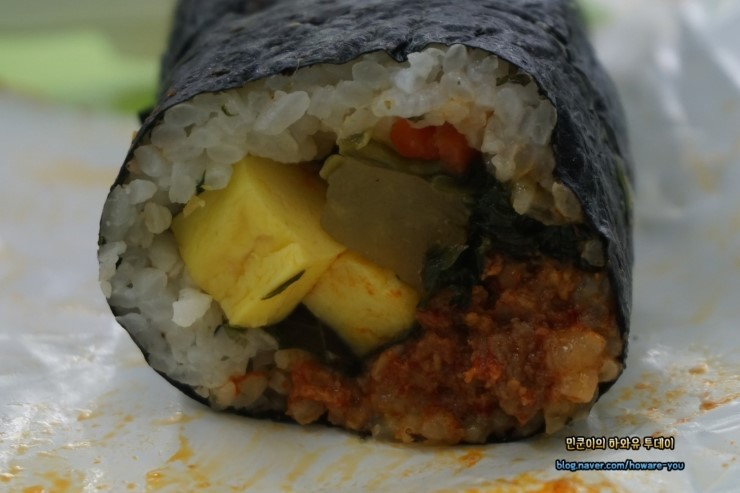gimbab: (90, 0, 643, 451)
